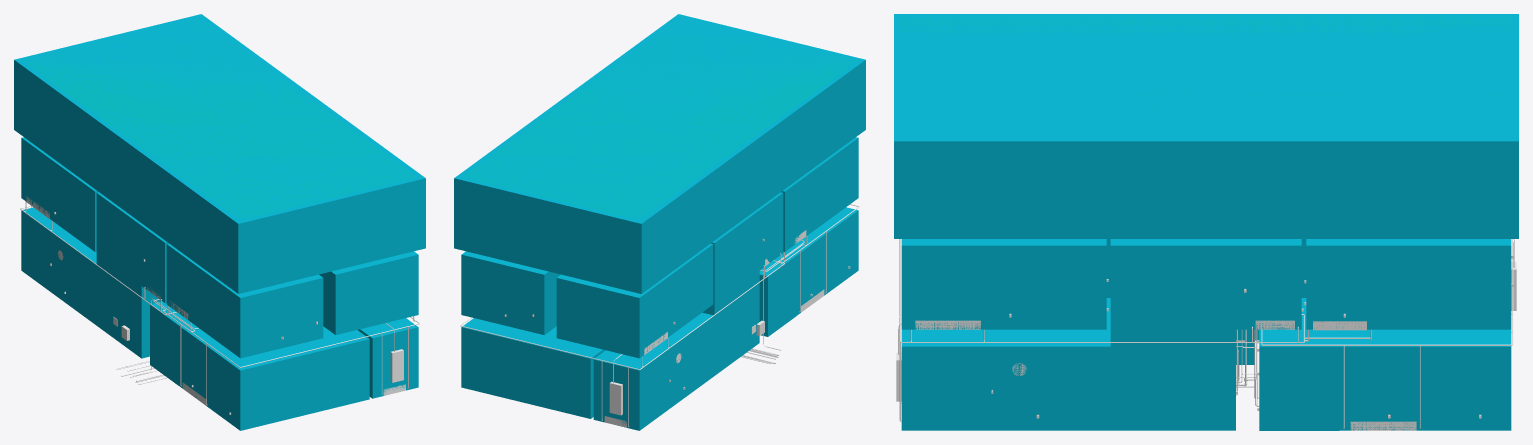
3 renders of one model, left to right at view 1: azimuth 30°, elevation 25°; view 2: azimuth 150°, elevation 25°; view 3: azimuth 270°, elevation 25°, orthographic. The views are drawn at different scales.
Parts seen in each view (by area): view 1: 0CRPz_SEr94Ah74P8LhwLP, 0CRPz_SEr94Ah74P8LhwCz, 0CRPz_SEr94Ah74P8LhwL0, 0CRPz_SEr94Ah74P8LhwD6, 0CRPz_SEr94Ah74P8LhwKx, 0CRPz_SEr94Ah74P8LhwD4, 0CRPz_SEr94Ah74P8LhwK$, 0CRPz_SEr94Ah74P8LhwD0, 0CRPz_SEr94Ah74P8LhwC_, 0CRPz_SEr94Ah74P8LhwKz, 0dJKPQcDL7OOA9T2YsJr1q; view 2: 0CRPz_SEr94Ah74P8LhwLP, 0CRPz_SEr94Ah74P8LhwK$, 0CRPz_SEr94Ah74P8LhwD1, 0CRPz_SEr94Ah74P8LhwD4, 0CRPz_SEr94Ah74P8LhwD6, 0CRPz_SEr94Ah74P8LhwKy, 0CRPz_SEr94Ah74P8LhwL0, 0CRPz_SEr94Ah74P8LhwCz, 0CRPz_SEr94Ah74P8LhwC_, 0CRPz_SEr94Ah74P8LhwKz, 1K7eM1Qof1dOc9$mY9I4DR; view 3: 0CRPz_SEr94Ah74P8LhwLP, 0CRPz_SEr94Ah74P8LhwD5, 0CRPz_SEr94Ah74P8LhwD0, 0CRPz_SEr94Ah74P8LhwKx, 0CRPz_SEr94Ah74P8LhwKy, 0CRPz_SEr94Ah74P8LhwD1, 0CRPz_SEr94Ah74P8LhwD2, 0CRPz_SEr94Ah74P8LhwKv, 1jQu9wkdr0iwNuem13Fl5m, 2W7U6tKFT4vf9lgsJlEr9H.
Part boxes in pixels (bbox=[...]): 0CRPz_SEr94Ah74P8LhwLP: bbox=[14, 14, 425, 293]; 0CRPz_SEr94Ah74P8LhwCz: bbox=[178, 322, 369, 430]; 0CRPz_SEr94Ah74P8LhwL0: bbox=[166, 243, 323, 358]; 0CRPz_SEr94Ah74P8LhwD6: bbox=[93, 192, 160, 358]; 0CRPz_SEr94Ah74P8LhwKx: bbox=[319, 251, 418, 334]; 0CRPz_SEr94Ah74P8LhwD4: bbox=[21, 207, 96, 322]; 0CRPz_SEr94Ah74P8LhwK$: bbox=[21, 137, 98, 251]; 0CRPz_SEr94Ah74P8LhwD0: bbox=[358, 318, 418, 398]; 0CRPz_SEr94Ah74P8LhwC_: bbox=[150, 301, 190, 385]; 0CRPz_SEr94Ah74P8LhwKz: bbox=[141, 225, 168, 303]; 0dJKPQcDL7OOA9T2YsJr1q: bbox=[390, 349, 403, 382]; 0CRPz_SEr94Ah74P8LhwLP: bbox=[454, 14, 865, 293]; 0CRPz_SEr94Ah74P8LhwK$: bbox=[556, 243, 713, 358]; 0CRPz_SEr94Ah74P8LhwD1: bbox=[461, 318, 605, 418]; 0CRPz_SEr94Ah74P8LhwD4: bbox=[593, 315, 711, 430]; 0CRPz_SEr94Ah74P8LhwD6: bbox=[699, 209, 759, 377]; 0CRPz_SEr94Ah74P8LhwKy: bbox=[461, 251, 560, 334]; 0CRPz_SEr94Ah74P8LhwL0: bbox=[781, 137, 858, 251]; 0CRPz_SEr94Ah74P8LhwCz: bbox=[783, 207, 858, 315]; 0CRPz_SEr94Ah74P8LhwC_: bbox=[759, 252, 796, 336]; 0CRPz_SEr94Ah74P8LhwKz: bbox=[757, 192, 783, 269]; 1K7eM1Qof1dOc9$mY9I4DR: bbox=[609, 381, 622, 415]; 0CRPz_SEr94Ah74P8LhwLP: bbox=[894, 14, 1518, 238]; 0CRPz_SEr94Ah74P8LhwD5: bbox=[1101, 239, 1235, 430]; 0CRPz_SEr94Ah74P8LhwD0: bbox=[901, 314, 1110, 430]; 0CRPz_SEr94Ah74P8LhwKx: bbox=[901, 239, 1110, 329]; 0CRPz_SEr94Ah74P8LhwKy: bbox=[1301, 239, 1511, 329]; 0CRPz_SEr94Ah74P8LhwD1: bbox=[1339, 329, 1511, 430]; 0CRPz_SEr94Ah74P8LhwD2: bbox=[1259, 298, 1339, 430]; 0CRPz_SEr94Ah74P8LhwKv: bbox=[1236, 239, 1301, 329]; 1jQu9wkdr0iwNuem13Fl5m: bbox=[1350, 421, 1416, 430]; 2W7U6tKFT4vf9lgsJlEr9H: bbox=[915, 320, 980, 329].
Size of the model in its own units: 8.98 by 9.76 by 17.38.
